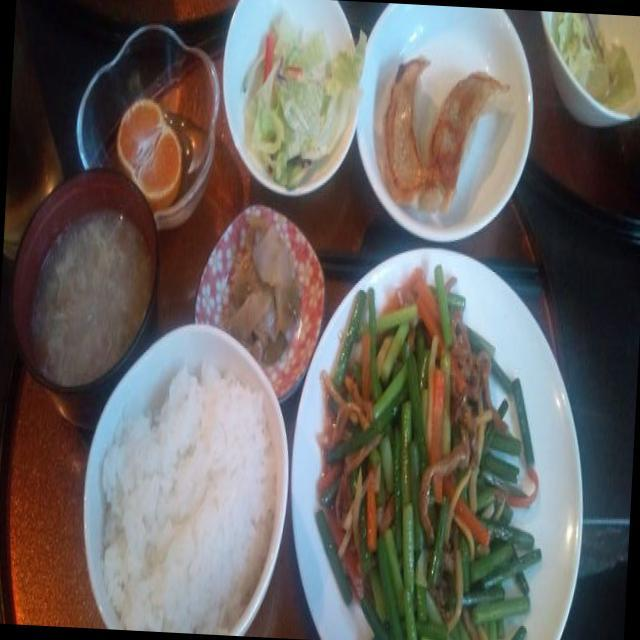Rice: (94, 362, 279, 630)
